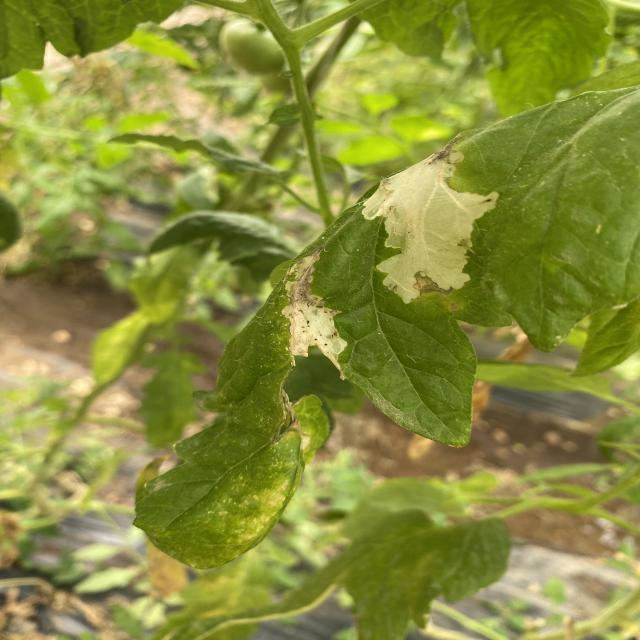Tuta absoluta: (340, 136, 528, 319), (265, 249, 354, 381)
